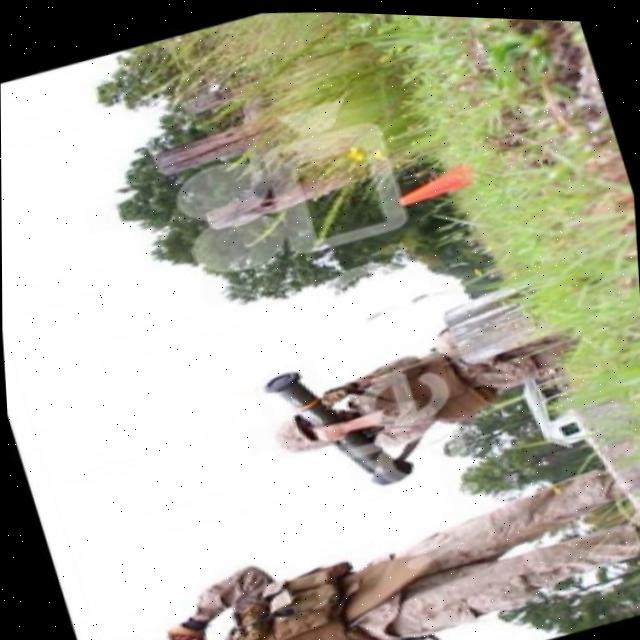rocket: (254, 337, 425, 512)
